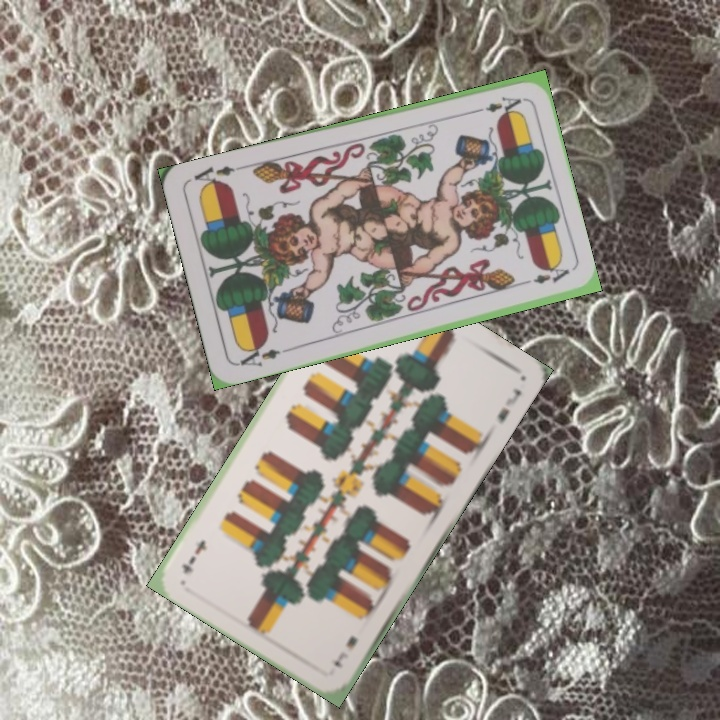E7: (330, 631, 360, 670)
EA: (233, 340, 291, 369), (481, 92, 524, 116)
